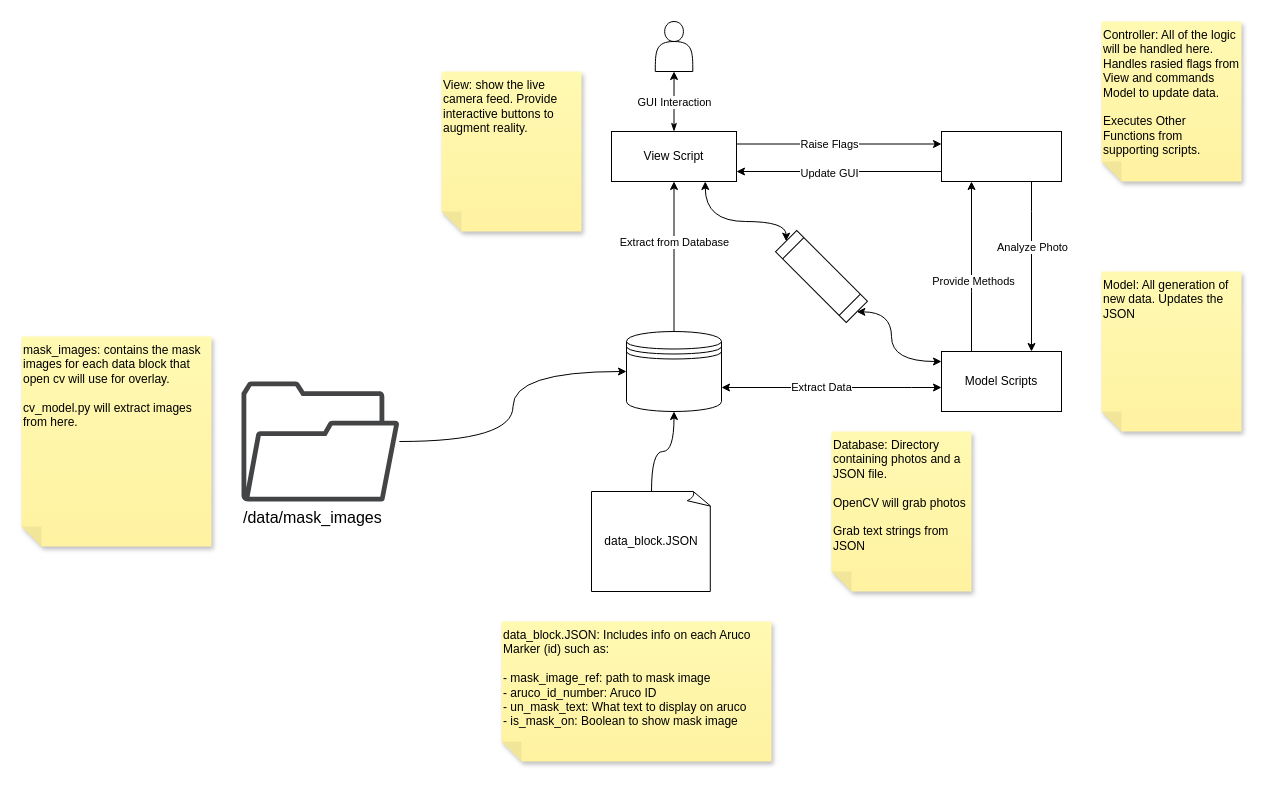
The diagram is 1264 pixels wide and 785 high, and some of its shapes have lost their labels. The shapes that lost their labels are listed below. From the top down, each one's centre as x and y in pixels, then its label:
At (1001,156): "Controller Script".
At (821,276): "Socket".
At (674,371): "Pictures JSON".
